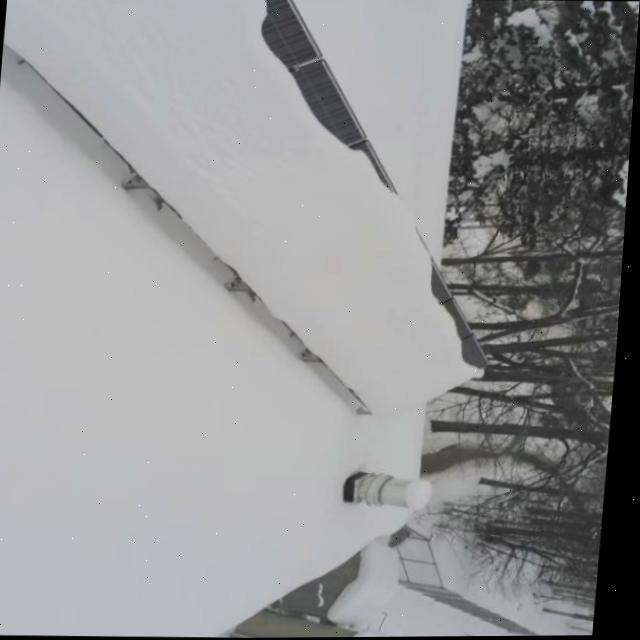Anomaly Solar Panel: (4, 0, 496, 424)
Snow: (4, 0, 487, 420)
